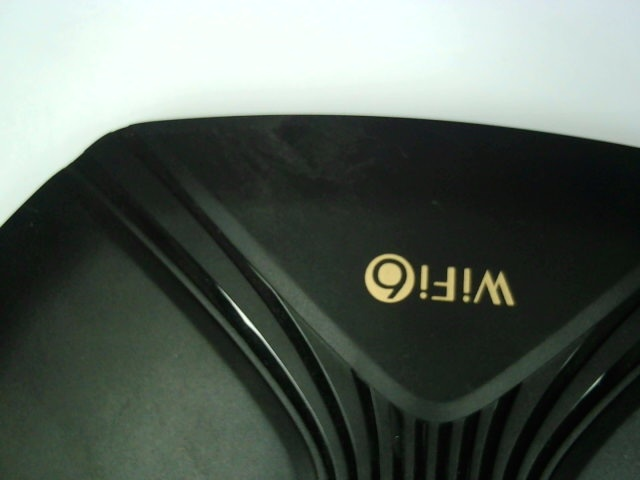AK_ZTEWIFI6Black: (334, 245, 526, 311)
